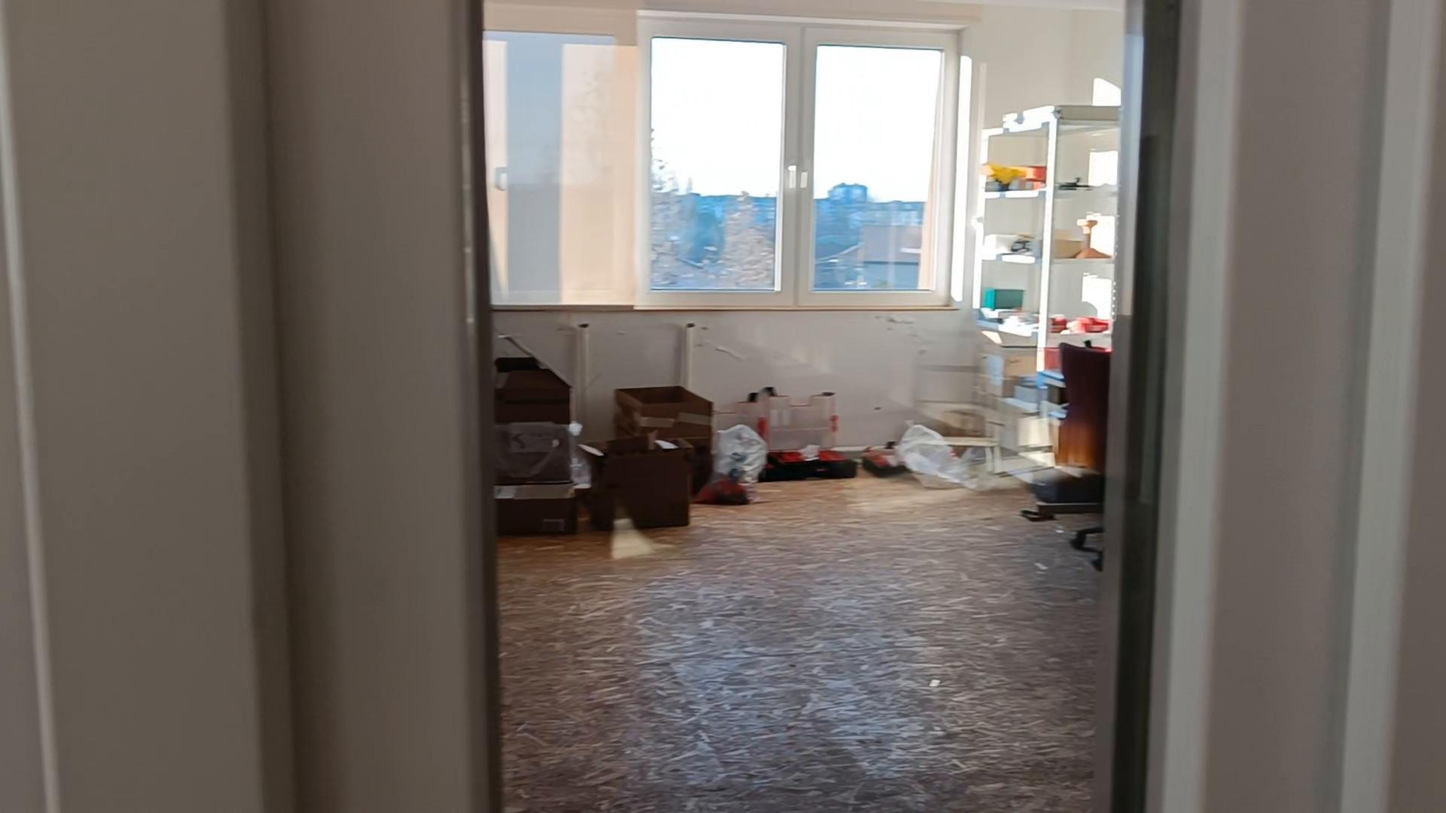floor: (499, 478, 1100, 812)
